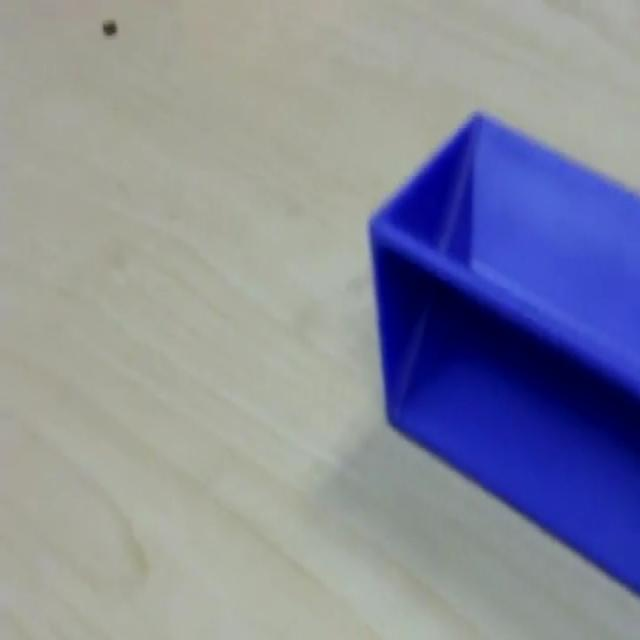blue_block: (366, 107, 639, 596)
